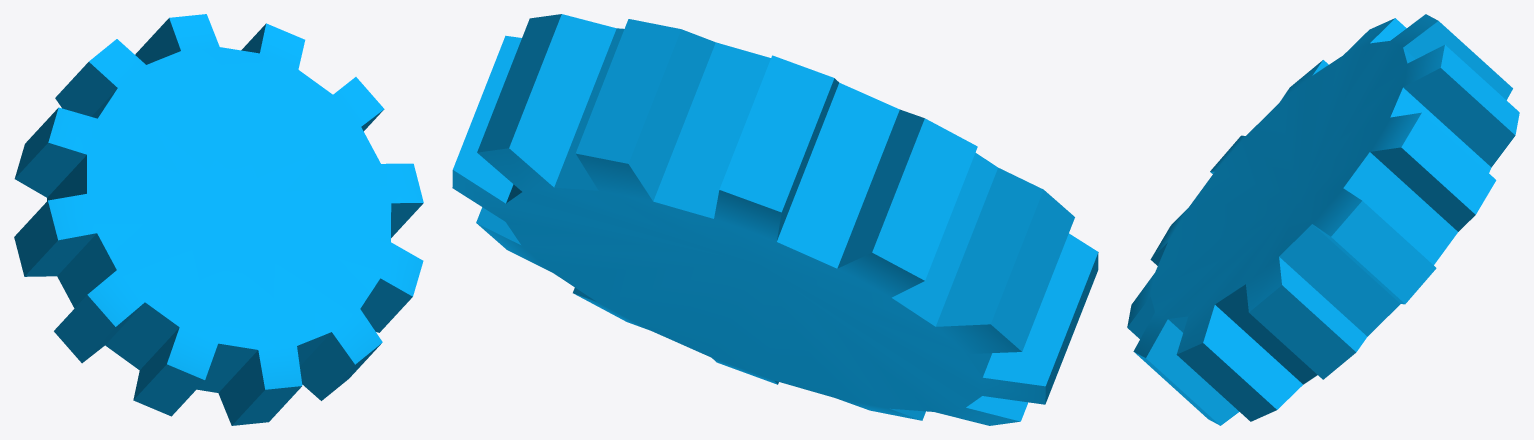
3 views of the same model, side by side, from view 1: azimuth 30°, elevation 25°; view 2: azimuth 150°, elevation 25°; view 3: azimuth 270°, elevation 25° (orthographic). The views are drawn at different scales.
Parts seen in each view (by area): view 1: Joint_0_Object_0; view 2: Joint_0_Object_0; view 3: Joint_0_Object_0.
Part boxes in pixels (<box>): Joint_0_Object_0: <box>14,14,423,425</box>; Joint_0_Object_0: <box>452,14,1098,425</box>; Joint_0_Object_0: <box>1127,14,1519,425</box>.
Size of the model in its own units: 241 by 210 by 210.
